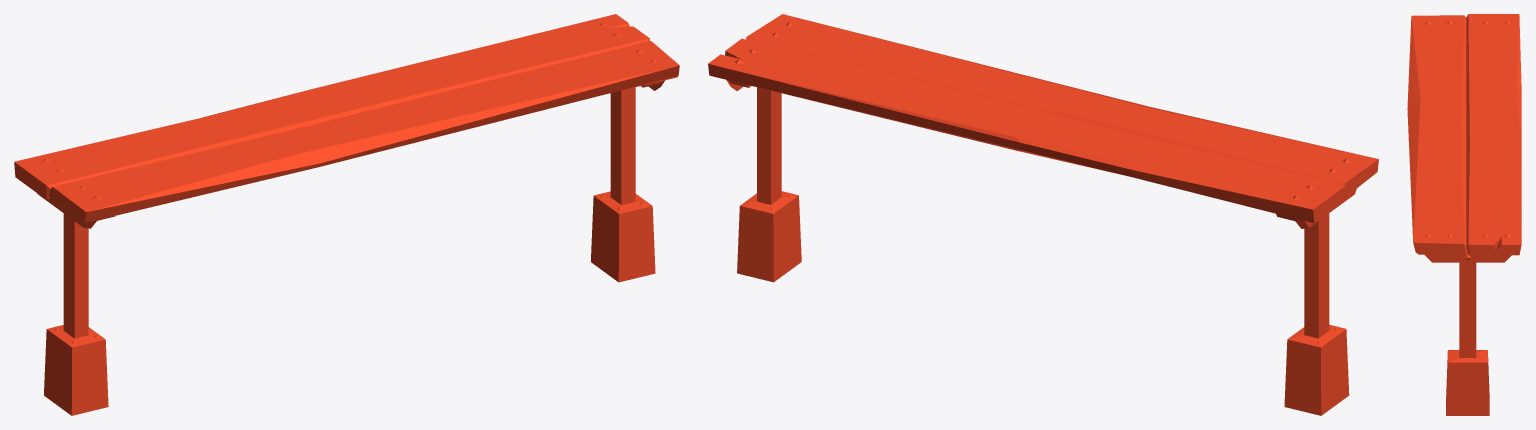
The model's file is SM_Bench_A_City.fbx.
The picture shows the model from 3 angles, left to right: view 1: azimuth 30°, elevation 25°; view 2: azimuth 150°, elevation 25°; view 3: azimuth 270°, elevation 25°; orthographic projection. The views are drawn at different scales.
Parts seen in each view (by area): view 1: SM_Bench_A_City; view 2: SM_Bench_A_City; view 3: SM_Bench_A_City.
Boxes of the visible parts, x1=… form: SM_Bench_A_City: x1=14, y1=14, x2=679, y2=415; SM_Bench_A_City: x1=708, y1=14, x2=1378, y2=415; SM_Bench_A_City: x1=1407, y1=14, x2=1521, y2=415.
Size of the model in its own units: 2.01 by 0.7157 by 0.4187.
